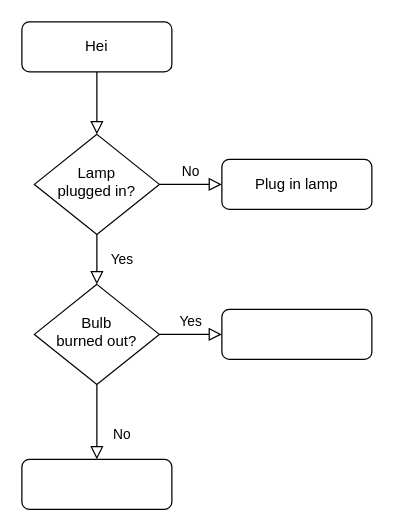
This 394x531 diagram has some shape labels left out. The shapes that lost their labels are listed below. From the top down, each one's box as (x1, y1, x2, y2) in pixels, then its label:
(221, 308, 372, 359): Replace Bulb
(21, 458, 172, 509): Repair Lamp
